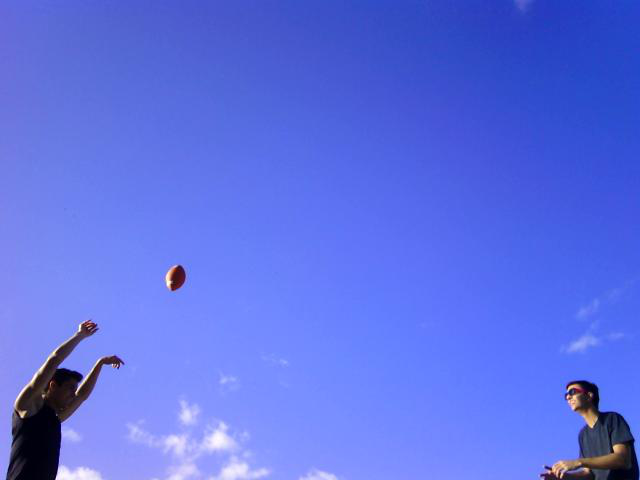football: (158, 262, 190, 295)
